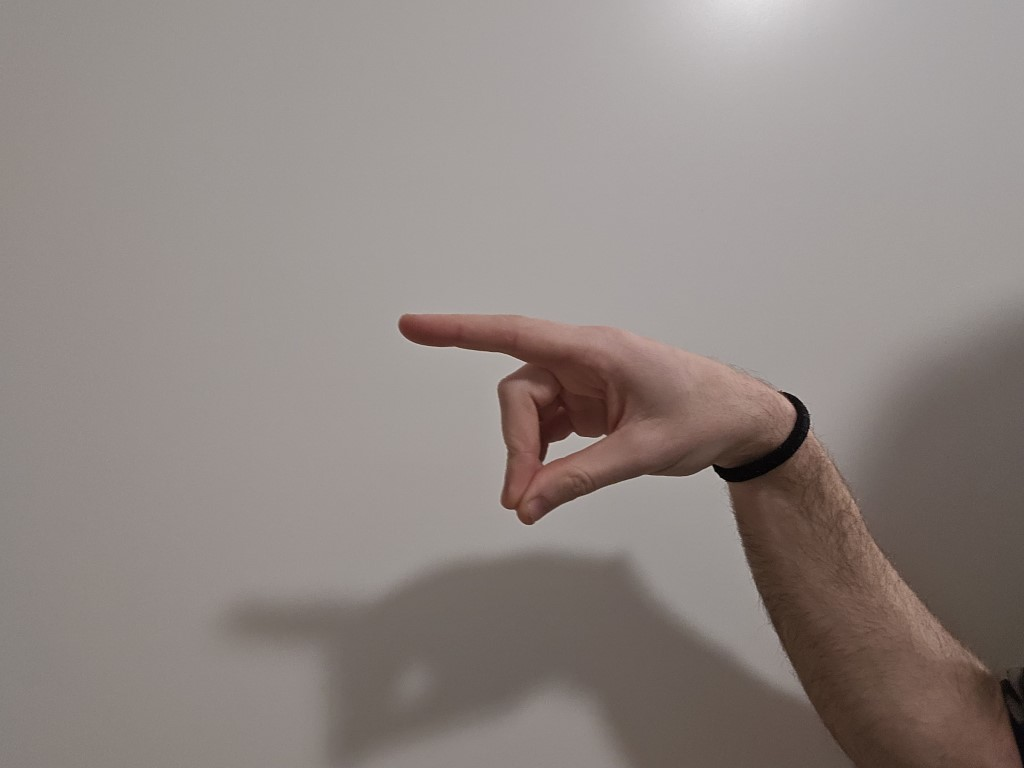p: (362, 275, 732, 546)
